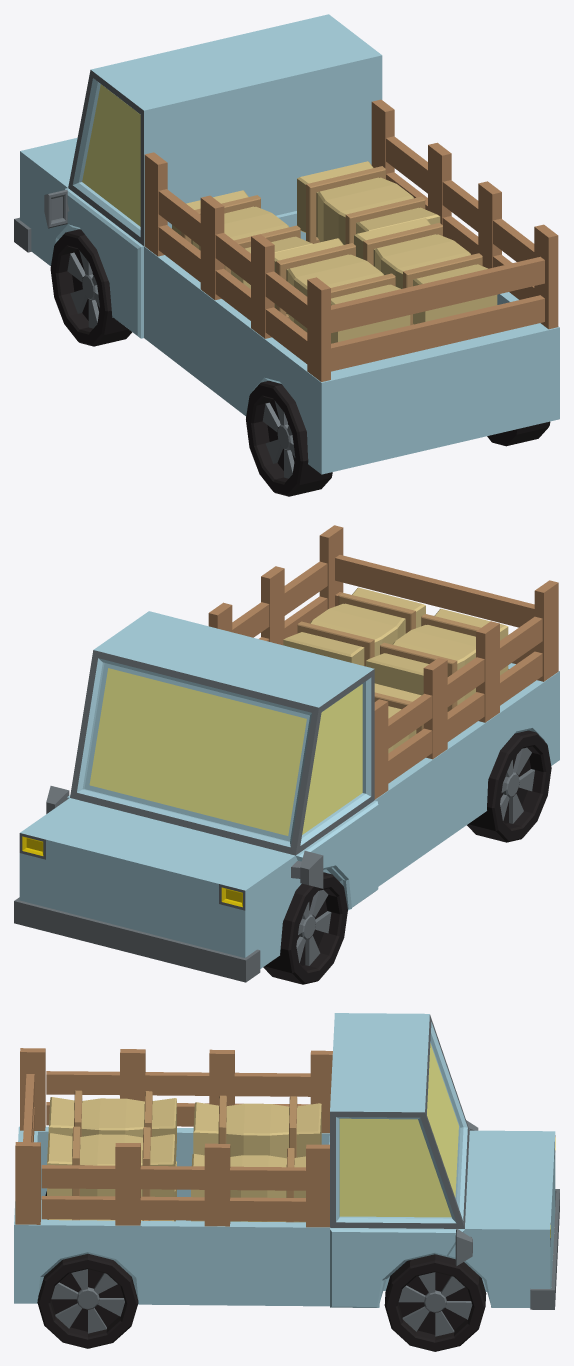
The model's file is Truck.fbx.
3 renders of one model, top to bottom at view 1: azimuth 30°, elevation 25°; view 2: azimuth 150°, elevation 25°; view 3: azimuth 270°, elevation 25°, orthographic. The views are drawn at different scales.
Parts seen in each view (by area): view 1: Box003.006; view 2: Box003.006; view 3: Box003.006.
Part boxes in pixels (x1,y1,x2,y2): Box003.006: [14, 14, 559, 496]; Box003.006: [14, 525, 559, 984]; Box003.006: [14, 1013, 559, 1351].
Size of the model in its own units: 129 by 120 by 251.
